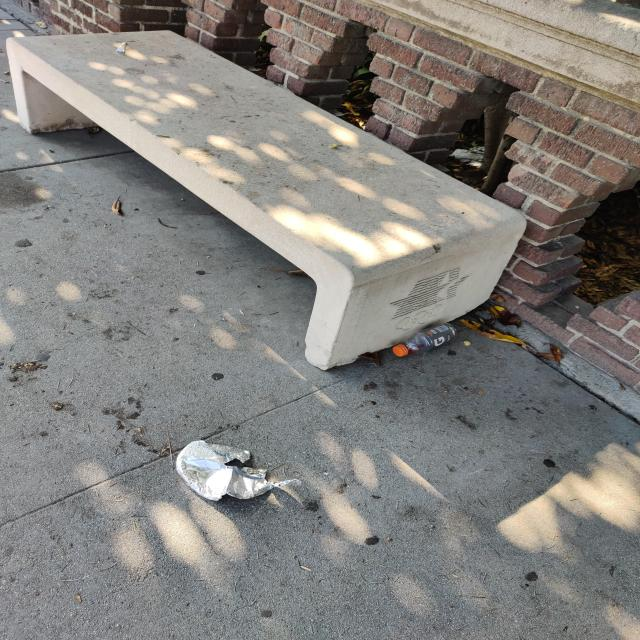litter: (175, 441, 299, 502), (390, 320, 460, 359)
